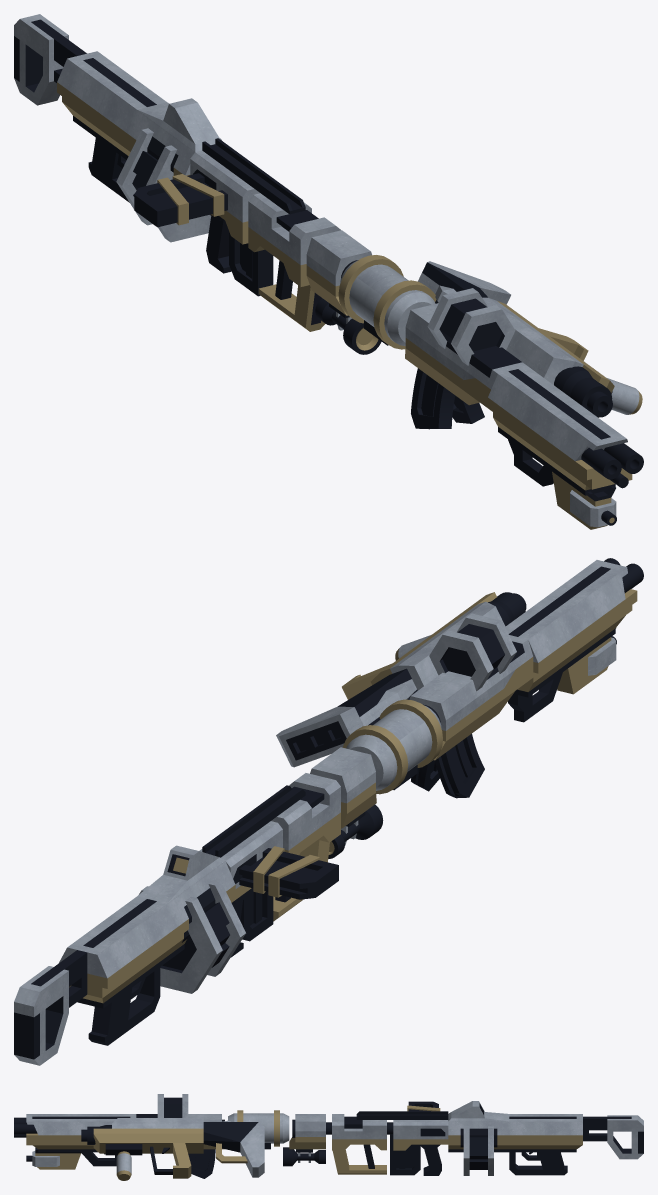
Rendered from Forbidden Zapper 29 - Ultralocktech Beowulfenstein Supreminator.fbx.
3 renders of one model, top to bottom at view 1: azimuth 30°, elevation 25°; view 2: azimuth 150°, elevation 25°; view 3: azimuth 270°, elevation 25°, orthographic. The views are drawn at different scales.
Visible parts, largest first — view 1: mergedBlocks; view 2: mergedBlocks; view 3: mergedBlocks.
Part boxes in pixels (left/top/right/bottom): mergedBlocks: left=14, top=14, right=643, bottom=529; mergedBlocks: left=14, top=558, right=643, bottom=1065; mergedBlocks: left=14, top=1094, right=643, bottom=1180.
Size of the model in its own units: 21 by 13.77 by 103.
3 materials, 1 textured.
